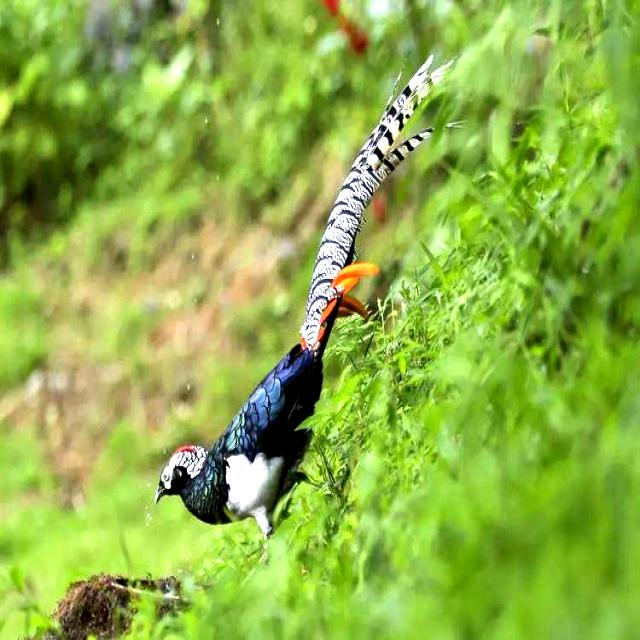Chrysolophus amherstiae: (301, 55, 447, 346)
